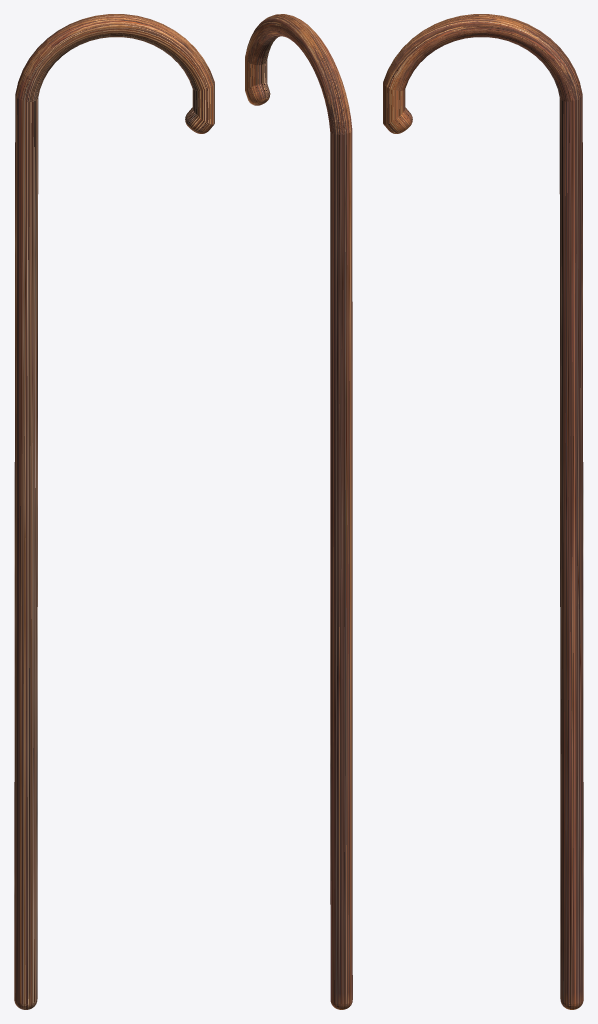
Rendered from Sungkod.glb.
3 renders of one model, left to right at view 1: azimuth 90°, elevation 25°; view 2: azimuth 210°, elevation 25°; view 3: azimuth 270°, elevation 25°, orthographic. The views are drawn at different scales.
Visible parts, largest first — view 1: Cylinder; view 2: Cylinder; view 3: Cylinder.
Boxes of the visible parts, x1=… form: Cylinder: x1=14, y1=14, x2=214, y2=1009; Cylinder: x1=245, y1=14, x2=352, y2=1009; Cylinder: x1=383, y1=14, x2=583, y2=1009.
Bounding box in the file's own units: 0.0592 × 2.79 × 0.5154.
Materials: 1 (1 with a texture image).
